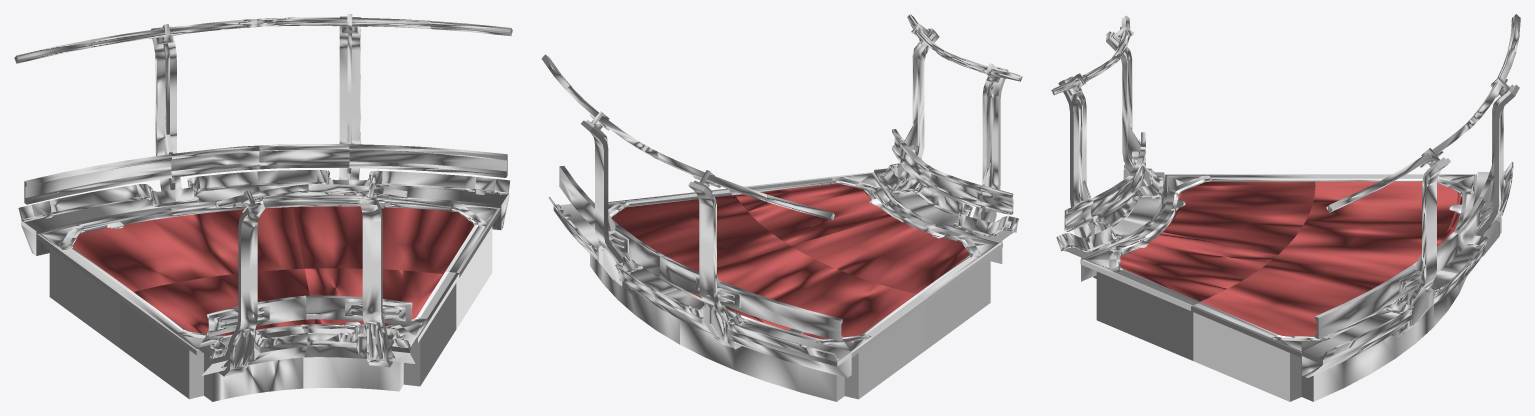
The model's file is ind_stairs_platform_corner_02x02_a.glb.
3 views of the same model, side by side, from view 1: azimuth 30°, elevation 25°; view 2: azimuth 150°, elevation 25°; view 3: azimuth 270°, elevation 25° (orthographic). The views are drawn at different scales.
Size of the model in its own units: 2.9 by 1.54 by 2.99.
